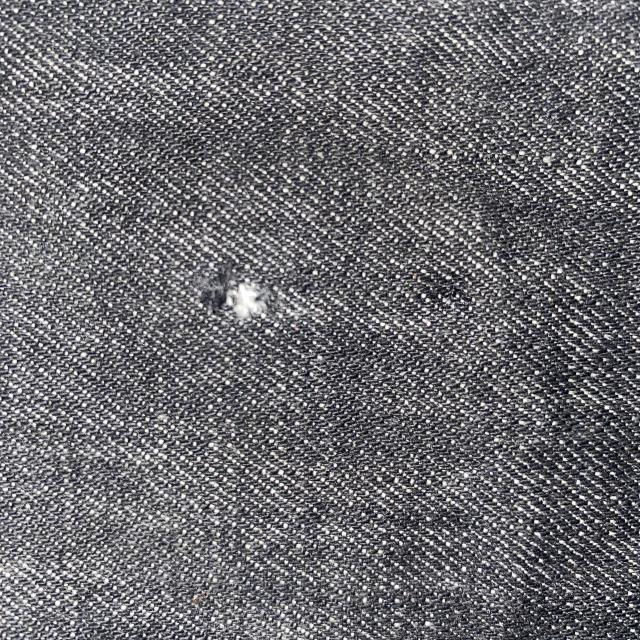Knot: (195, 260, 279, 323)
